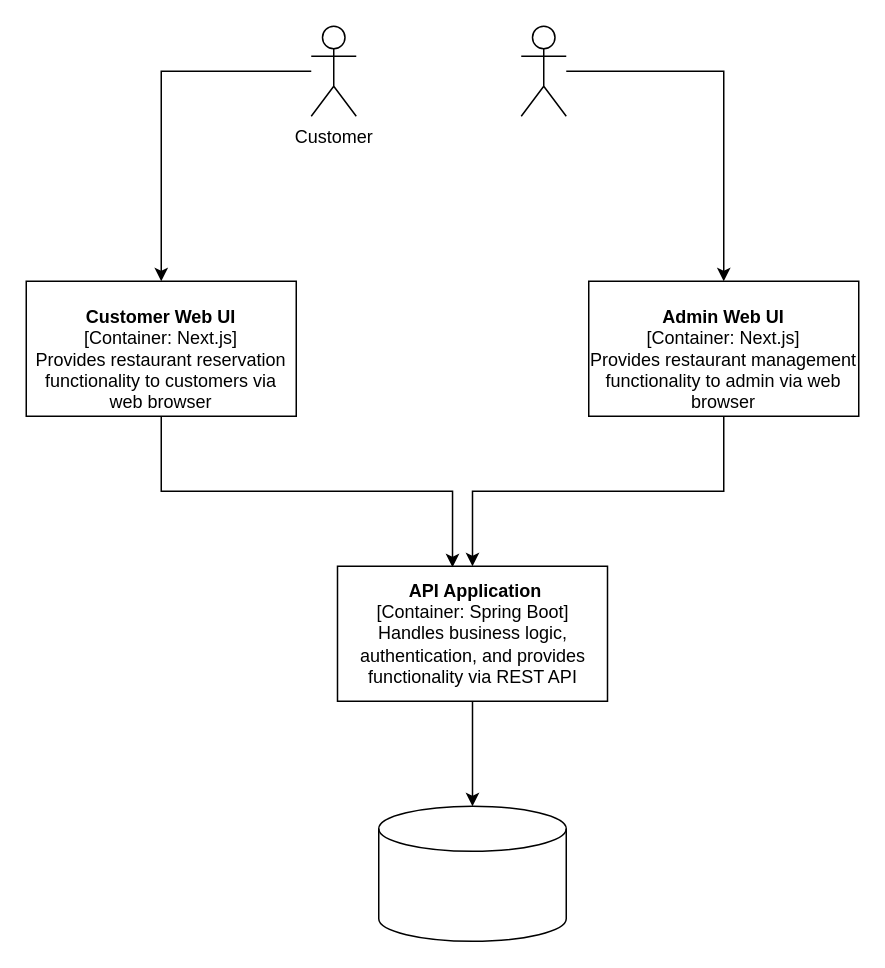
Some shapes in this 885 by 968 pixel diagram are drawn without their labels. The centre of each missing label's shape, as x and y in pixels:
Admin: (x=543, y=70)
PostgreSQL Database: (x=471, y=873)
